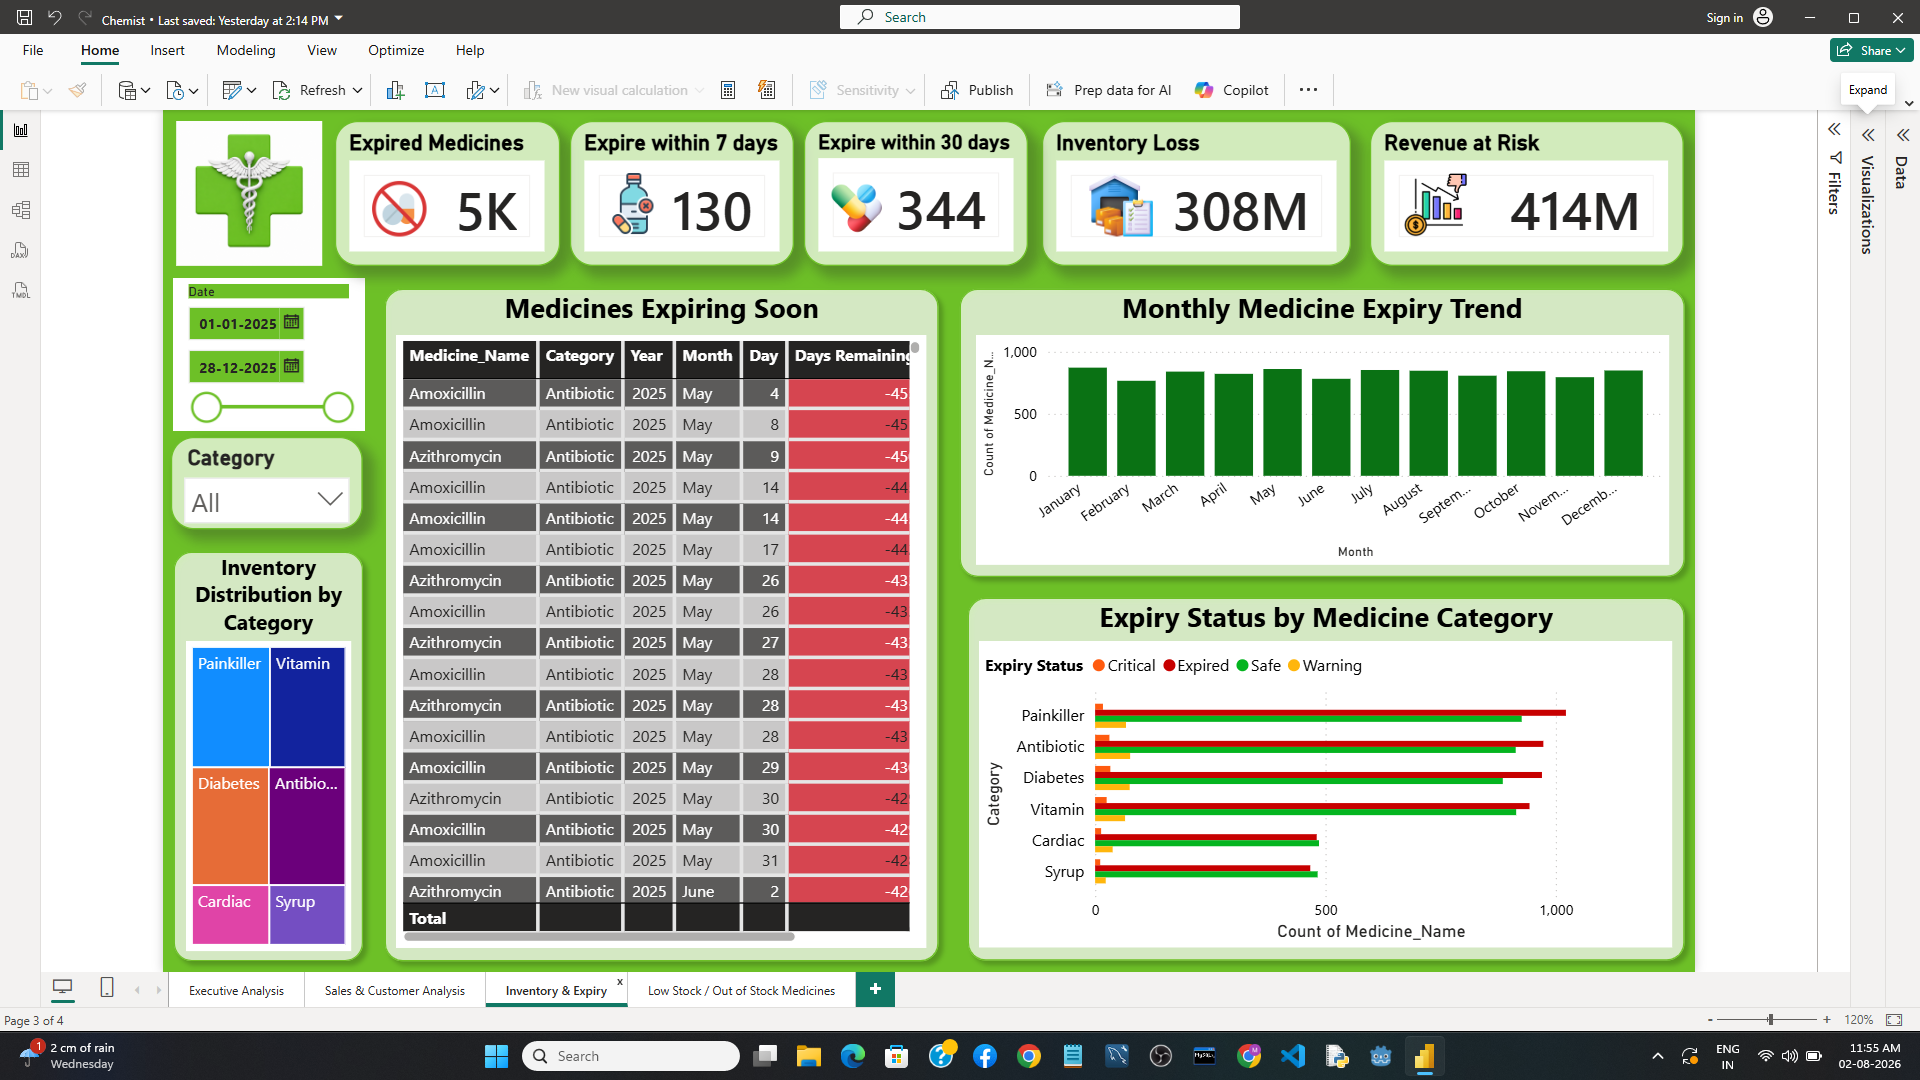

This screenshot's page, from the dashboard's own definition file:
{"tool":"powerbi","page":{"name":"Inventory & Expiry","canvas":[1280,720],"ordinal":2},"visuals":[{"type":"shape","box":[0,359.9,176,359.9],"z":0},{"type":"image","box":[0,8.9,143.6,121.5],"z":1000},{"type":"slicer","fields":{"Values":["Chemist_Shop_Dataset_2025_10000_Rows.Date"]},"box":[8,140.1,160.5,126.8],"z":2000},{"type":"slicer","fields":{"Values":["Chemist_Shop_Dataset_2025_10000_Rows.Category"]},"box":[6.8,273.3,160.5,76.8],"z":3000},{"type":"shape","box":[176,140.1,480.5,579.7],"z":4000},{"type":"shape","box":[656.5,140.1,623.5,258.7],"z":5000},{"type":"shape","box":[663.3,398.8,616.7,321],"z":6000},{"type":"cardVisual","title":"Expired  Medicines","fields":{"Data":["Chemist_Shop_Dataset_2025_10000_Rows.Expired Medicines"]},"box":[143.6,8.9,188,121.5],"z":7000},{"type":"cardVisual","title":"Inventory Loss","fields":{"Data":["Chemist_Shop_Dataset_2025_10000_Rows.Inventory Loss"]},"box":[734.2,8.9,258,121.5],"z":8000},{"type":"cardVisual","title":"Expire within 7 days","fields":{"Data":["Chemist_Shop_Dataset_2025_10000_Rows.Expiring in 7 Days"]},"box":[339.6,8.9,187.1,121.5],"z":9000},{"type":"cardVisual","title":"Expire within 30 days","fields":{"Data":["Chemist_Shop_Dataset_2025_10000_Rows.Expiring in 30 Days"]},"box":[535.6,8.9,187.1,121.5],"z":10000},{"type":"cardVisual","title":"Revenue at Risk","fields":{"Data":["Chemist_Shop_Dataset_2025_10000_Rows.Potential Revenue Lost"]},"box":[1008.2,8.9,261.6,121.5],"z":11000},{"type":"clusteredBarChart","fields":{"Category":["Chemist_Shop_Dataset_2025_10000_Rows.Category"],"Series":["Chemist_Shop_Dataset_2025_10000_Rows.Expiry Status"],"Y":["CountNonNull(Chemist_Shop_Dataset_2025_10000_Rows.Medicine_Name)"]},"box":[681.8,443.5,578.7,255.8],"z":12000},{"type":"clusteredColumnChart","fields":{"Category":["Chemist_Shop_Dataset_2025_10000_Rows.Expiry_Date.Variation.Date Hierarchy.Month"],"Y":["CountNonNull(Chemist_Shop_Dataset_2025_10000_Rows.Medicine_Name)"]},"box":[678.9,187.7,578.7,191.6],"z":13000},{"type":"treemap","fields":{"Values":["Sum(Chemist_Shop_Dataset_2025_10000_Rows.Stock_Available)"],"Group":["Chemist_Shop_Dataset_2025_10000_Rows.Category"]},"box":[19.5,443.5,138.1,258.7],"z":14000},{"type":"tableEx","fields":{"Values":["Chemist_Shop_Dataset_2025_10000_Rows.Medicine_Name","Chemist_Shop_Dataset_2025_10000_Rows.Category","Chemist_Shop_Dataset_2025_10000_Rows.Expiry_Date.Variation.Date Hierarchy.Year","Chemist_Shop_Dataset_2025_10000_Rows.Expiry_Date.Variation.Date Hierarchy.Month","Chemist_Shop_Dataset_2025_10000_Rows.Expiry_Date.Variation.Date Hierarchy.Day","Chemist_Shop_Dataset_2025_10000_Rows.Days Remaining","Chemist_Shop_Dataset_2025_10000_Rows.Stock_Available"]},"box":[194.5,187.7,442.6,511.6],"z":15000},{"type":"image","box":[362.8,52.5,60.3,50.6],"z":16000},{"type":"image","box":[555.4,61.3,47.7,41.8],"z":17000},{"type":"image","box":[168.3,58.4,59.3,47.7],"z":18000},{"type":"image","box":[761.6,52.5,76.8,53.5],"z":19000},{"type":"image","box":[1024.2,52.5,77.8,53.5],"z":20000}]}

Visuals, with their boxes on the page's 1280x720 design canvas (x1, y1, x2, y2). These are canvas units, not pixel positions in the 1920x1080 screenshot, which may show the page scaled, cropped or inside an application window:
shape: left=0, top=360, right=176, bottom=720
image: left=0, top=9, right=144, bottom=130
slicer - Chemist_Shop_Dataset_2025_10000_Rows.Date: left=8, top=140, right=168, bottom=267
slicer - Chemist_Shop_Dataset_2025_10000_Rows.Category: left=7, top=273, right=167, bottom=350
shape: left=176, top=140, right=656, bottom=720
shape: left=656, top=140, right=1280, bottom=399
shape: left=663, top=399, right=1280, bottom=720
"Expired  Medicines" cardVisual: left=144, top=9, right=332, bottom=130
"Inventory Loss" cardVisual: left=734, top=9, right=992, bottom=130
"Expire within 7 days" cardVisual: left=340, top=9, right=527, bottom=130
"Expire within 30 days" cardVisual: left=536, top=9, right=723, bottom=130
"Revenue at Risk" cardVisual: left=1008, top=9, right=1270, bottom=130
clusteredBarChart - Chemist_Shop_Dataset_2025_10000_Rows.Category x Chemist_Shop_Dataset_2025_10000_Rows.Expiry Status: left=682, top=444, right=1260, bottom=699
clusteredColumnChart - Chemist_Shop_Dataset_2025_10000_Rows.Expiry_Date.Variation.Date Hierarchy.Month x CountNonNull(Chemist_Shop_Dataset_2025_10000_Rows.Medicine_Name): left=679, top=188, right=1258, bottom=379
treemap - Sum(Chemist_Shop_Dataset_2025_10000_Rows.Stock_Available) x Chemist_Shop_Dataset_2025_10000_Rows.Category: left=20, top=444, right=158, bottom=702
tableEx - Chemist_Shop_Dataset_2025_10000_Rows.Medicine_Name x Chemist_Shop_Dataset_2025_10000_Rows.Category: left=194, top=188, right=637, bottom=699
image: left=363, top=52, right=423, bottom=103
image: left=555, top=61, right=603, bottom=103
image: left=168, top=58, right=228, bottom=106
image: left=762, top=52, right=838, bottom=106
image: left=1024, top=52, right=1102, bottom=106
